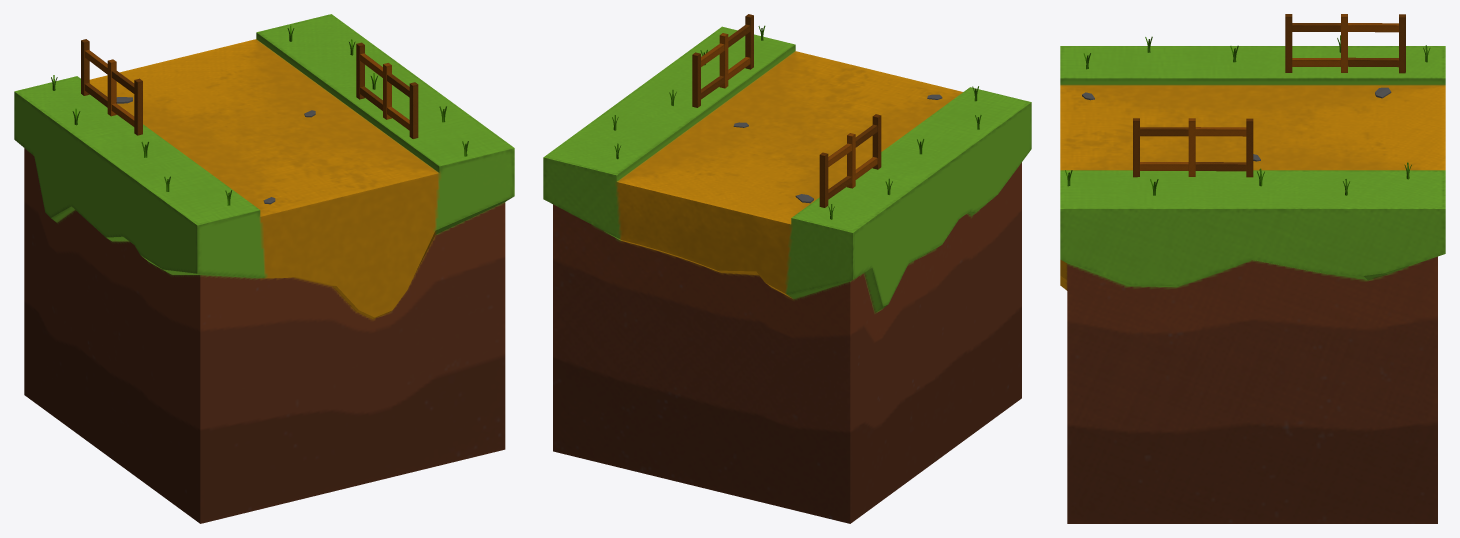
Rendered from Concepts_19.fbx.
3 renders of one model, left to right at view 1: azimuth 30°, elevation 25°; view 2: azimuth 150°, elevation 25°; view 3: azimuth 270°, elevation 25°, orthographic. The views are drawn at different scales.
Visible parts, largest first — view 1: Cube.168, Cube.170, Cube.169, Cube.020; view 2: Cube.168, Cube.169, Cube.170, Cube.020; view 3: Cube.168, Cube.170, Cube.169, Cube.020.
Part boxes in pixels (x1,y1,x2,y2): Cube.168: [14, 14, 514, 523]; Cube.170: [356, 42, 418, 138]; Cube.169: [81, 39, 142, 135]; Cube.020: [51, 25, 468, 205]; Cube.168: [543, 26, 1031, 523]; Cube.169: [819, 114, 881, 207]; Cube.170: [692, 14, 753, 107]; Cube.020: [612, 25, 981, 219]; Cube.168: [1060, 46, 1445, 523]; Cube.170: [1133, 118, 1253, 177]; Cube.169: [1285, 14, 1405, 73]; Cube.020: [1065, 35, 1430, 195].
Bounding box in the file's own units: 301 × 323 × 301.
